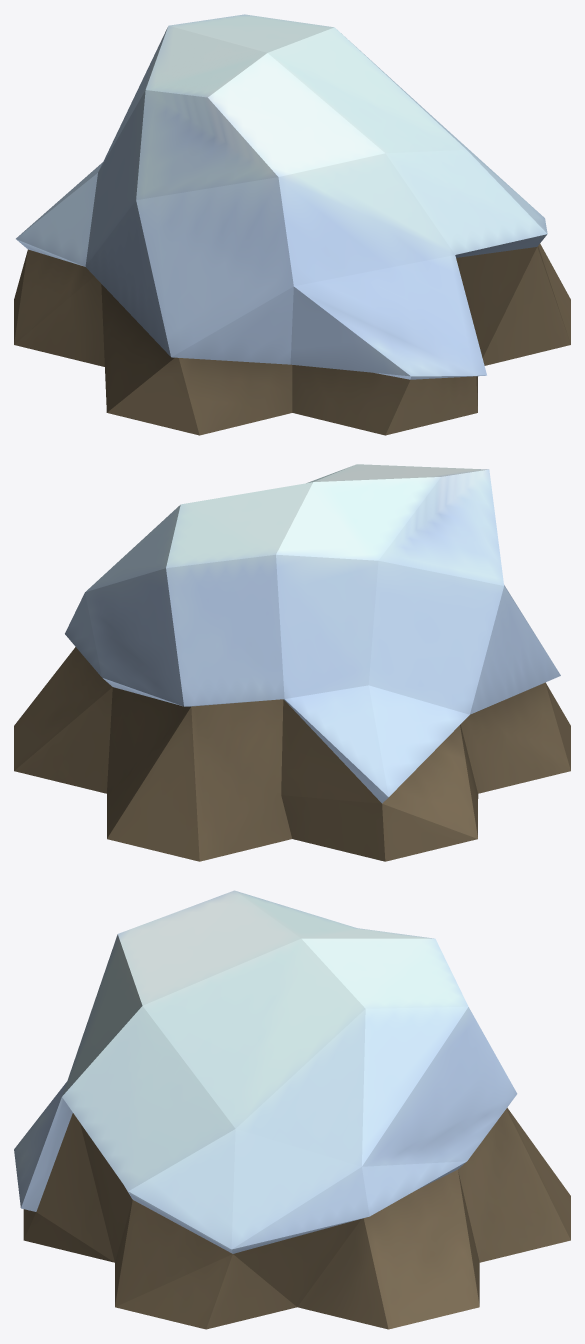
The model's file is RocherNeige_E.FBX.
The picture shows the model from 3 angles, top to bottom: view 1: azimuth 30°, elevation 25°; view 2: azimuth 150°, elevation 25°; view 3: azimuth 270°, elevation 25°; orthographic projection.
Visible parts, largest first — view 1: RocherNeige_E; view 2: RocherNeige_E; view 3: RocherNeige_E.
Boxes of the visible parts, x1,y1,x2,y2 form: RocherNeige_E: (14, 14, 570, 435); RocherNeige_E: (14, 464, 570, 861); RocherNeige_E: (14, 890, 570, 1329).
Bounding box in the file's own units: 2.5 × 1.42 × 2.64.
